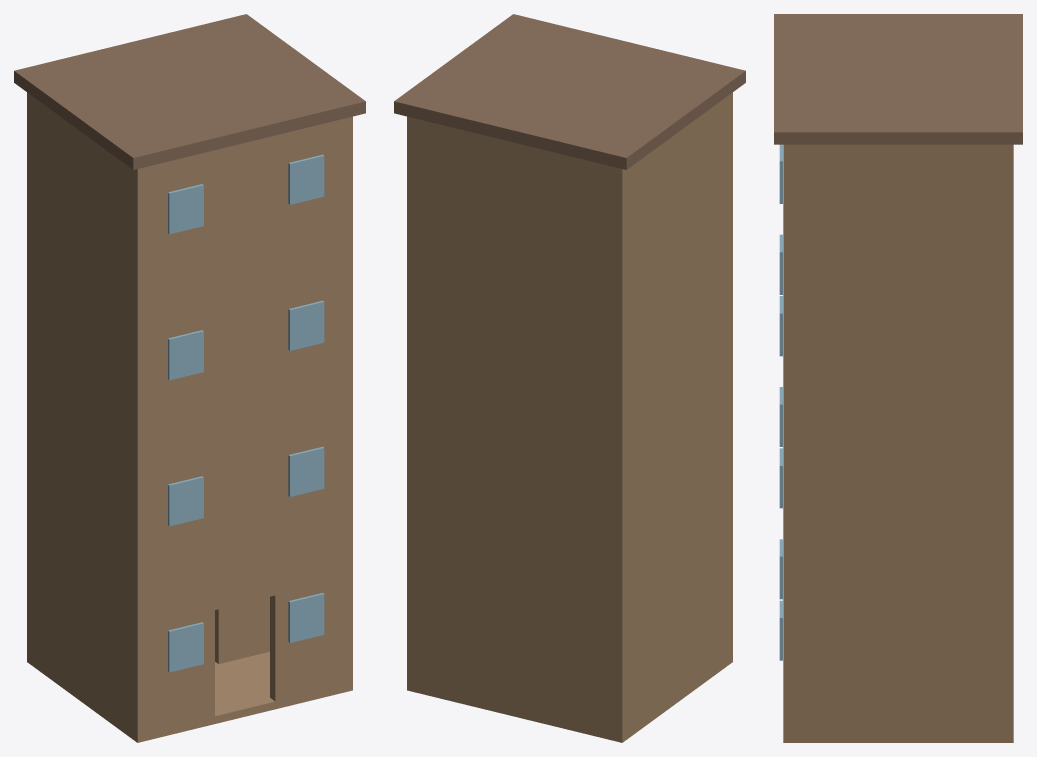
The model's file is apartment_building.glb.
3 renders of one model, left to right at view 1: azimuth 30°, elevation 25°; view 2: azimuth 150°, elevation 25°; view 3: azimuth 270°, elevation 25°, orthographic. The views are drawn at different scales.
Parts seen in each view (by area): view 1: building_0_1, building_0_5, building_0_4, building_0_26, building_0_6, building_0_2, building_0_0, building_0_7, building_0_8, building_0_17, building_0_11, building_0_13 (+5 smaller); view 2: building_0_3, building_0_1, building_0_26, building_0_2, building_0_0, building_0_7; view 3: building_0_2, building_0_26, building_0_8, building_0_0.
Boxes of the visible parts, x1=… form: building_0_1: x1=27, y1=92, x2=146, y2=742; building_0_5: x1=270, y1=119, x2=343, y2=701; building_0_4: x1=147, y1=150, x2=214, y2=740; building_0_26: x1=14, y1=14, x2=365, y2=169; building_0_6: x1=215, y1=135, x2=275, y2=609; building_0_2: x1=343, y1=116, x2=352, y2=690; building_0_0: x1=27, y1=651, x2=352, y2=742; building_0_7: x1=79, y1=131, x2=84, y2=703; building_0_8: x1=215, y1=597, x2=269, y2=663; building_0_17: x1=288, y1=154, x2=324, y2=204; building_0_11: x1=288, y1=593, x2=324, y2=642; building_0_13: x1=288, y1=446, x2=324, y2=496; building_0_3: x1=416, y1=119, x2=612, y2=740; building_0_1: x1=613, y1=92, x2=732, y2=742; building_0_26: x1=394, y1=14, x2=745, y2=169; building_0_2: x1=407, y1=116, x2=416, y2=690; building_0_0: x1=407, y1=655, x2=732, y2=742; building_0_7: x1=675, y1=131, x2=680, y2=701; building_0_2: x1=783, y1=144, x2=1013, y2=742; building_0_26: x1=774, y1=14, x2=1022, y2=144; building_0_8: x1=892, y1=144, x2=904, y2=742; building_0_0: x1=783, y1=735, x2=1013, y2=742.
Size of the model in its own units: 4.37 by 10.61 by 3.89.
